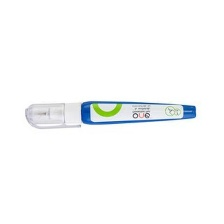correction_fluid: (21, 97, 198, 133)
